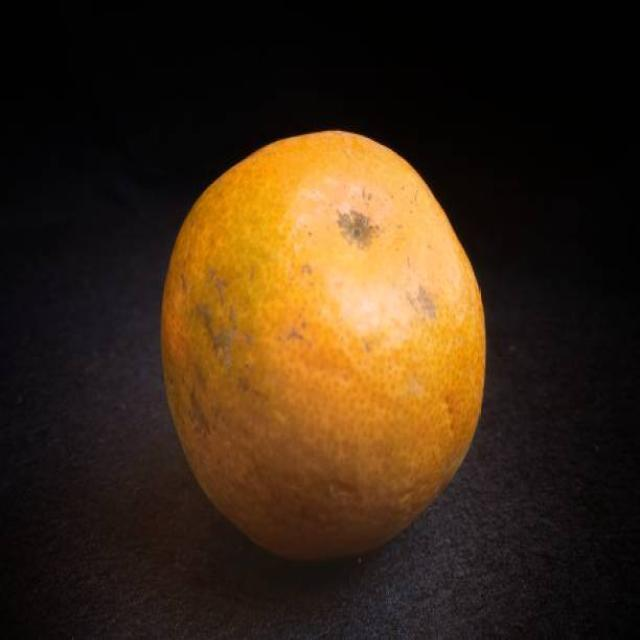overripe: (158, 126, 492, 572)
